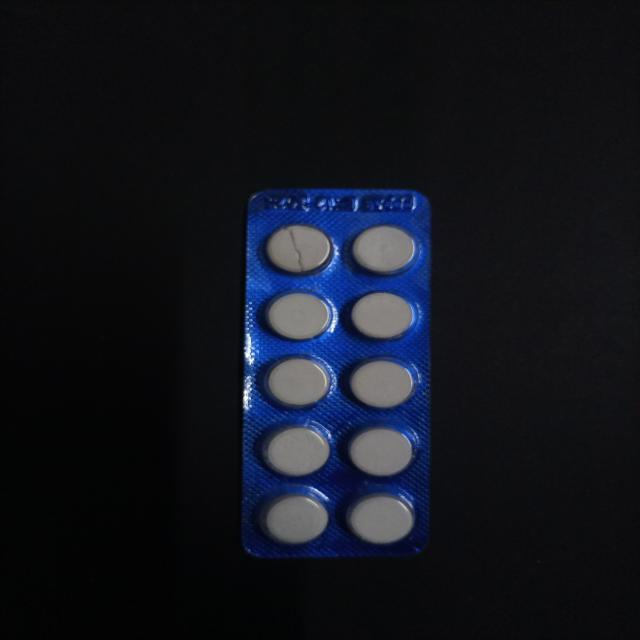defect: (262, 221, 338, 277)
